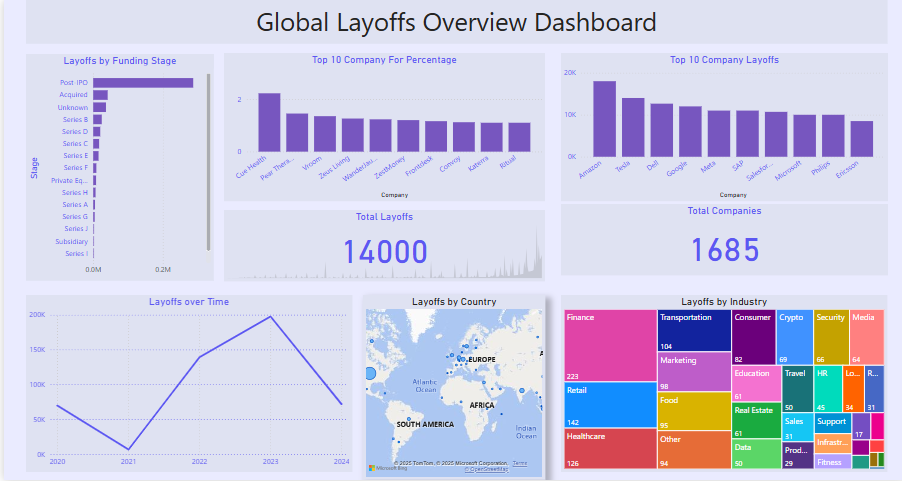

The dashboard page shown, as its layout file describes it:
{"tool":"powerbi","page":{"name":"Page 1","canvas":[1500,800],"ordinal":0},"visuals":[{"type":"clusteredColumnChart","title":"Top 10 Company Layoffs","fields":{"Category":["layoffs_data_2.Company"],"Y":["Sum(layoffs_data_2.Laid_Off_Count)"]},"box":[928.6,87.8,544.9,246.9],"z":0},{"type":"kpi","title":"Total Layoffs","fields":{"Indicator":["Sum(layoffs_data_2.Laid_Off_Count)"],"TrendLine":["layoffs_data_2.Laid_Off_Count"]},"box":[367.3,349.2,534.8,118.6],"z":1000},{"type":"card","title":"Total Companies ","fields":{"Values":["CountNonNull(layoffs_data_2.Company)"]},"box":[929.1,340.2,545.1,118.6],"z":2000},{"type":"columnChart","title":"Top 10 Company For Percentage","fields":{"Category":["layoffs_data_2.Company"],"Y":["Sum(layoffs_data_2.Percentage)"]},"box":[367.3,87.6,534.8,247.4],"z":3000},{"type":"treemap","title":"Layoffs by Industry","fields":{"Group":["layoffs_data_2.Industry"],"Values":["CountNonNull(layoffs_data_2.Laid_Off_Count)"]},"box":[929.1,492.3,543.8,295.1],"z":4000},{"type":"map","title":"Layoffs by Country","fields":{"Category":["layoffs_data_2.Country"],"Size":["Sum(layoffs_data_2.Laid_Off_Count)"]},"box":[597.9,492.3,304.1,308],"z":5000},{"type":"lineChart","title":"Layoffs over Time","fields":{"Y":["Sum(layoffs_data_2.Laid_Off_Count)"],"Category":["layoffs_data_2.Date.Variation.Date Hierarchy.Year","layoffs_data_2.Date.Variation.Date Hierarchy.Quarter","layoffs_data_2.Date.Variation.Date Hierarchy.Month","layoffs_data_2.Date.Variation.Date Hierarchy.Day"]},"box":[37.4,492.3,543.8,295.1],"z":6000},{"type":"barChart","title":"Layoffs by Funding Stage","fields":{"Category":["layoffs_data_2.Stage"],"Y":["Sum(layoffs_data_2.Laid_Off_Count)"]},"box":[37.4,90.2,313.1,377.6],"z":7000},{"type":"textbox","box":[37.4,0,1435.6,73.5],"z":8000}]}

Visuals, with their boxes in screenshot pixels (x1, y1, x2, y2), scaled from the page's 1500x800 canvas onto the 902x481 screenshot:
"Top 10 Company Layoffs" clusteredColumnChart: x1=558 y1=53 x2=886 y2=201
"Total Layoffs" kpi: x1=221 y1=210 x2=542 y2=281
"Total Companies " card: x1=559 y1=205 x2=886 y2=276
"Top 10 Company For Percentage" columnChart: x1=221 y1=53 x2=542 y2=201
"Layoffs by Industry" treemap: x1=559 y1=296 x2=886 y2=473
"Layoffs by Country" map: x1=360 y1=296 x2=542 y2=480
"Layoffs over Time" lineChart: x1=22 y1=296 x2=349 y2=473
"Layoffs by Funding Stage" barChart: x1=22 y1=54 x2=211 y2=281
textbox: x1=22 y1=0 x2=886 y2=44
